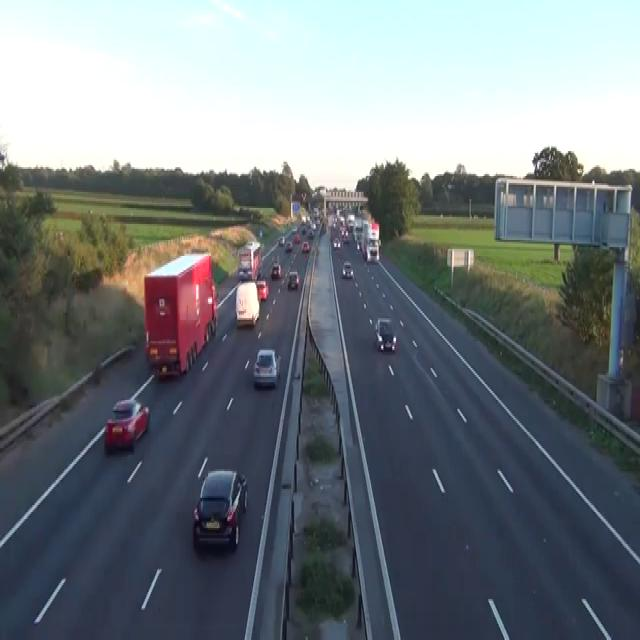Car: (192, 468, 248, 550), (104, 398, 150, 452), (252, 348, 281, 388), (374, 316, 396, 352), (256, 279, 269, 301), (341, 260, 353, 279), (287, 270, 299, 288), (238, 265, 251, 281), (270, 261, 281, 279), (53, 228, 64, 242), (301, 240, 310, 252), (342, 230, 349, 243), (284, 240, 292, 251), (332, 238, 340, 249), (293, 233, 300, 242), (278, 235, 284, 245), (307, 230, 314, 238), (301, 224, 306, 233), (356, 238, 360, 249), (291, 226, 297, 233), (259, 228, 262, 236)
Truck: (143, 250, 217, 378), (235, 281, 259, 327), (237, 240, 261, 281), (360, 220, 380, 262)
